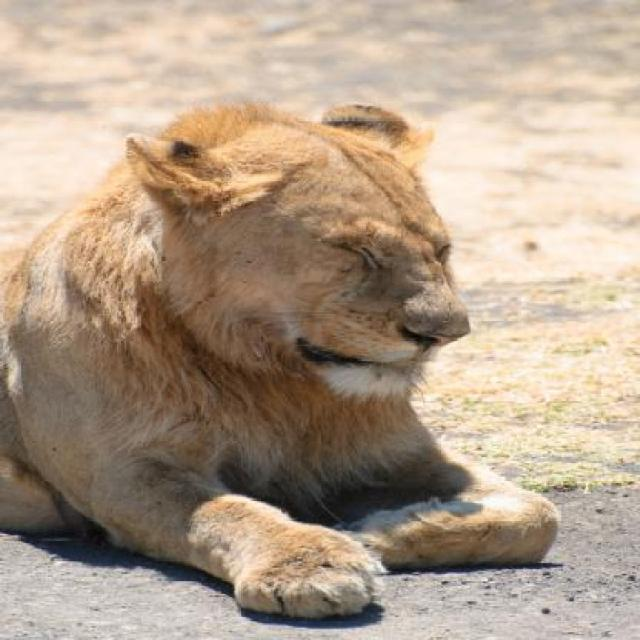Lion: (11, 61, 583, 637)
